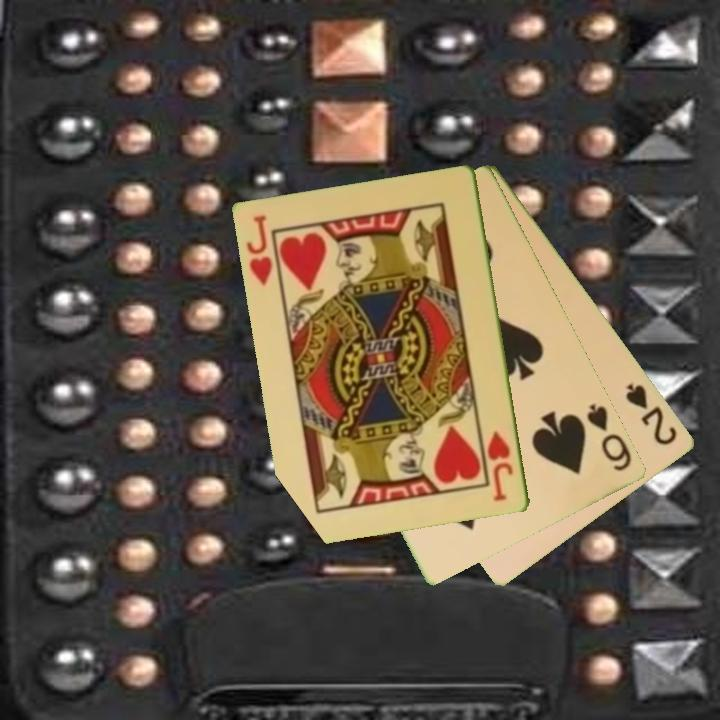2s: (622, 380, 681, 449)
6s: (583, 400, 635, 475)
Jh: (243, 211, 276, 289), (484, 428, 516, 505)
